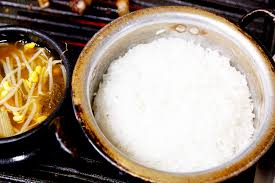ssalbab: (88, 34, 256, 175)
